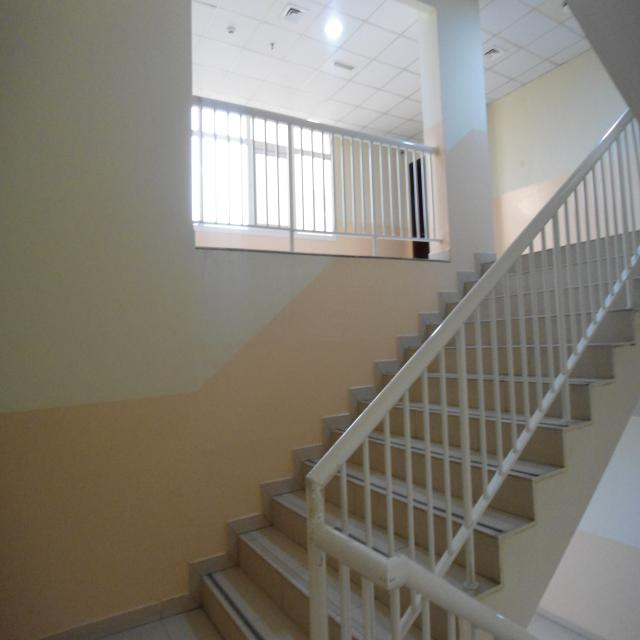railing: (320, 104, 640, 640), (169, 86, 448, 268)
stairs: (172, 241, 640, 640)
